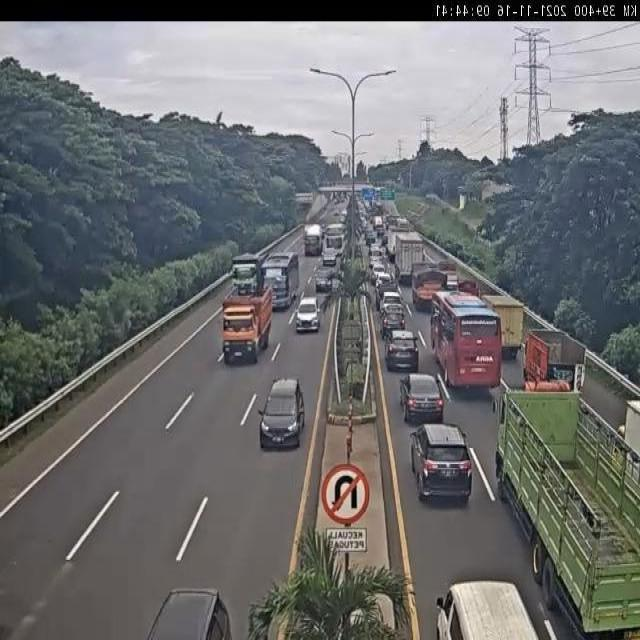Bus: (428, 288, 504, 389), (260, 248, 301, 311), (321, 222, 346, 257)
Car: (408, 424, 472, 504), (146, 582, 234, 640), (259, 376, 305, 449), (399, 372, 442, 424), (384, 330, 420, 373), (295, 297, 321, 333), (380, 302, 405, 338), (380, 290, 405, 314), (314, 266, 335, 294), (374, 271, 394, 294), (371, 262, 386, 286), (322, 248, 338, 266)
Truck: (493, 372, 640, 635), (221, 284, 273, 365), (524, 327, 586, 390), (480, 294, 524, 360), (613, 396, 640, 481), (409, 260, 447, 310), (392, 232, 425, 284), (232, 247, 268, 293), (385, 225, 410, 265), (437, 259, 460, 290), (304, 224, 324, 256)
Van: (434, 576, 538, 640)
